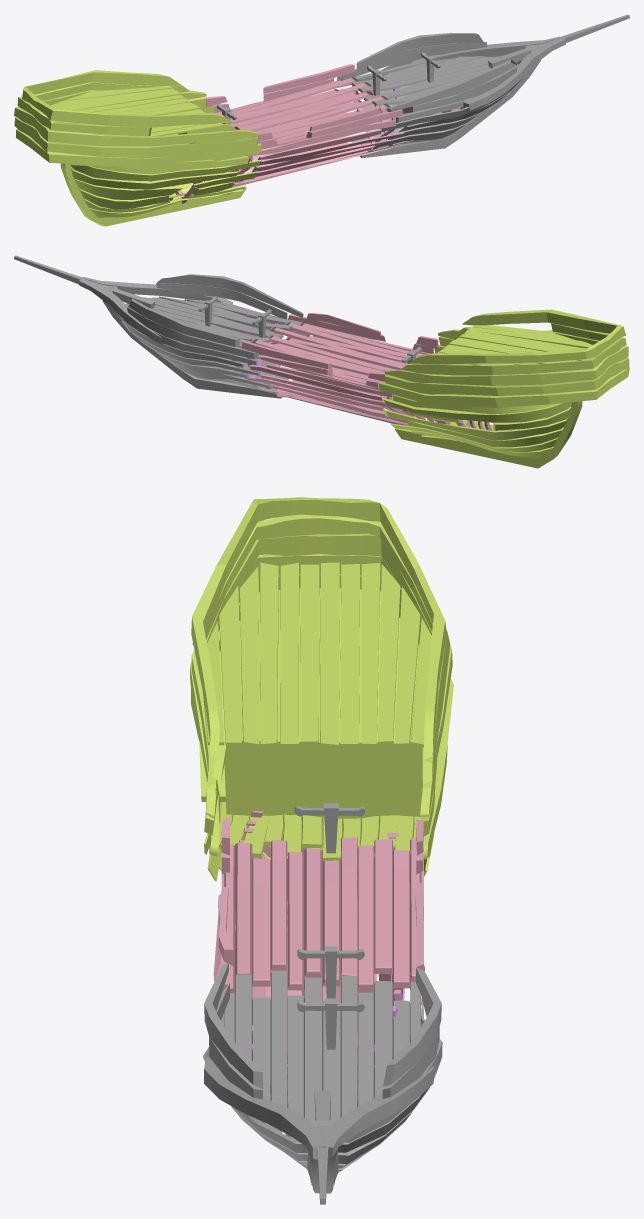
The model's file is Shipwreck_2.fbx.
3 renders of one model, top to bottom at view 1: azimuth 30°, elevation 25°; view 2: azimuth 150°, elevation 25°; view 3: azimuth 270°, elevation 25°, orthographic. The views are drawn at different scales.
Parts seen in each view (by area): view 1: polySurface1214, Shipwreck_Front2, Shipwreck_Middle2; view 2: polySurface1214, Shipwreck_Front2, Shipwreck_Middle2; view 3: polySurface1214, Shipwreck_Front2, Shipwreck_Middle2.
Boxes of the visible parts, box(x1,y1,x2,y2) form: polySurface1214: box(14, 70, 261, 226); Shipwreck_Front2: box(217, 14, 629, 158); Shipwreck_Middle2: box(206, 64, 404, 188); polySurface1214: box(378, 309, 629, 468); Shipwreck_Front2: box(14, 255, 421, 398); Shipwreck_Middle2: box(241, 313, 438, 425); polySurface1214: box(190, 497, 453, 931); Shipwreck_Front2: box(203, 803, 442, 1204); Shipwreck_Middle2: box(213, 817, 424, 1063).
Bounding box in the file's own units: 48.55 × 11.59 × 9.29.
